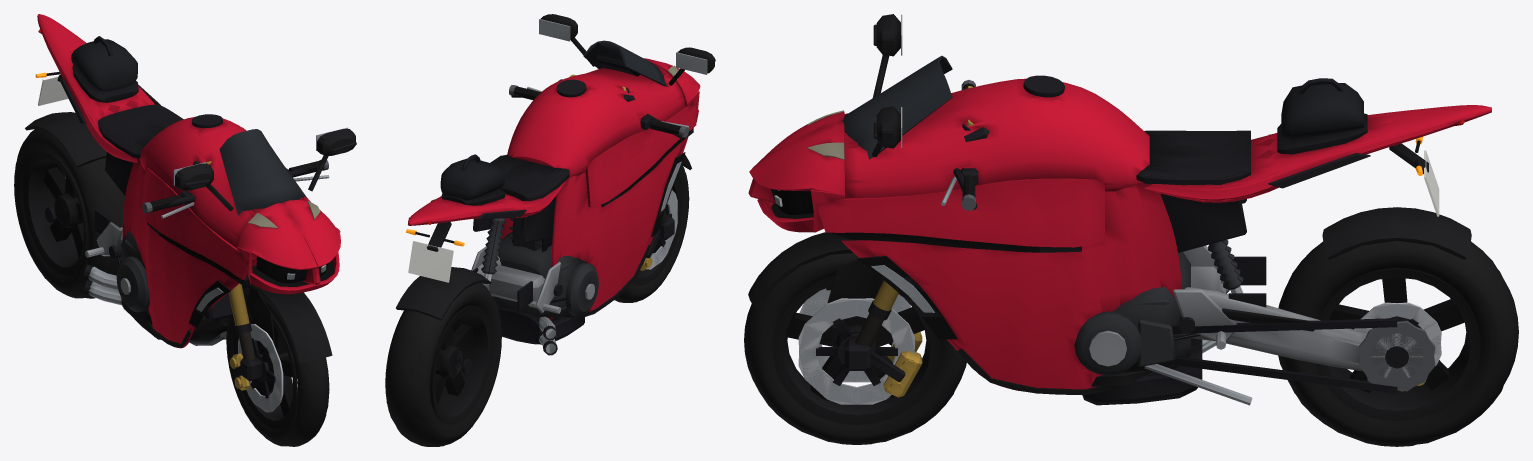
The model's file is bike13_panigale.glb.
3 views of the same model, side by side, from view 1: azimuth 30°, elevation 25°; view 2: azimuth 150°, elevation 25°; view 3: azimuth 270°, elevation 25° (orthographic). The views are drawn at different scales.
Visible parts, largest first — view 1: body (×2), wheel_rear (×2), wheel_front (×2), disc_front (×2), fork_right, handlebar (×2); view 2: body (×2), wheel_rear (×2), wheel_front (×2), handlebar, disc_front (×2), fork_right; view 3: body (×2), wheel_rear (×2), wheel_front (×2), disc_front (×2), fork_left (×2), disc_rear (×2), handlebar.
Part boxes in pixels (x1,y1,x2,y2): body (×2): [25, 14, 356, 363]; wheel_rear (×2): [14, 128, 125, 298]; wheel_front (×2): [226, 288, 329, 446]; disc_front (×2): [238, 324, 297, 412]; fork_right: [206, 161, 262, 388]; handlebar (×2): [142, 159, 329, 218]; body (×2): [396, 14, 715, 355]; wheel_rear (×2): [385, 283, 501, 446]; wheel_front (×2): [614, 164, 689, 302]; handlebar: [509, 85, 688, 138]; disc_front (×2): [646, 190, 677, 269]; fork_right: [622, 86, 674, 267]; body (×2): [748, 14, 1491, 405]; wheel_rear (×2): [1278, 240, 1518, 446]; wheel_front (×2): [744, 253, 966, 444]; disc_front (×2): [798, 288, 914, 404]; fork_left (×2): [844, 119, 973, 397]; disc_rear (×2): [1354, 302, 1441, 365]; handlebar: [941, 80, 978, 210].
Size of the model in its own units: 0.74 by 1.12 by 2.06.
